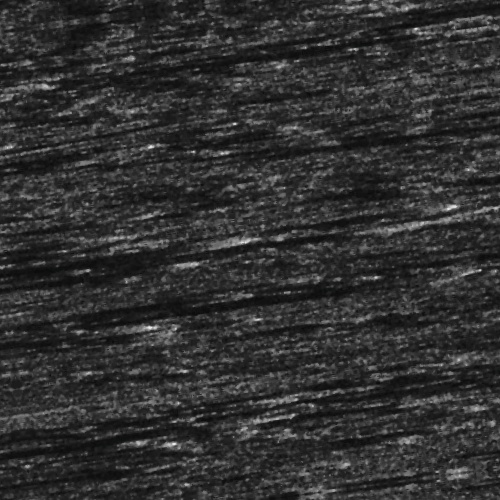object: (63, 218, 188, 231), (20, 211, 165, 222), (62, 303, 167, 316), (344, 239, 437, 252), (0, 54, 107, 63), (0, 359, 51, 376), (165, 233, 238, 242), (95, 131, 188, 138), (425, 54, 500, 61), (132, 250, 195, 255), (181, 414, 244, 419), (386, 295, 417, 302)
shadow: (0, 239, 391, 252), (253, 150, 500, 159), (175, 54, 466, 61), (0, 233, 201, 242), (0, 218, 125, 231), (0, 303, 114, 316), (0, 414, 212, 419), (0, 211, 92, 222), (0, 131, 141, 138), (0, 250, 164, 255), (408, 279, 500, 286), (277, 228, 428, 231), (352, 295, 401, 302)
